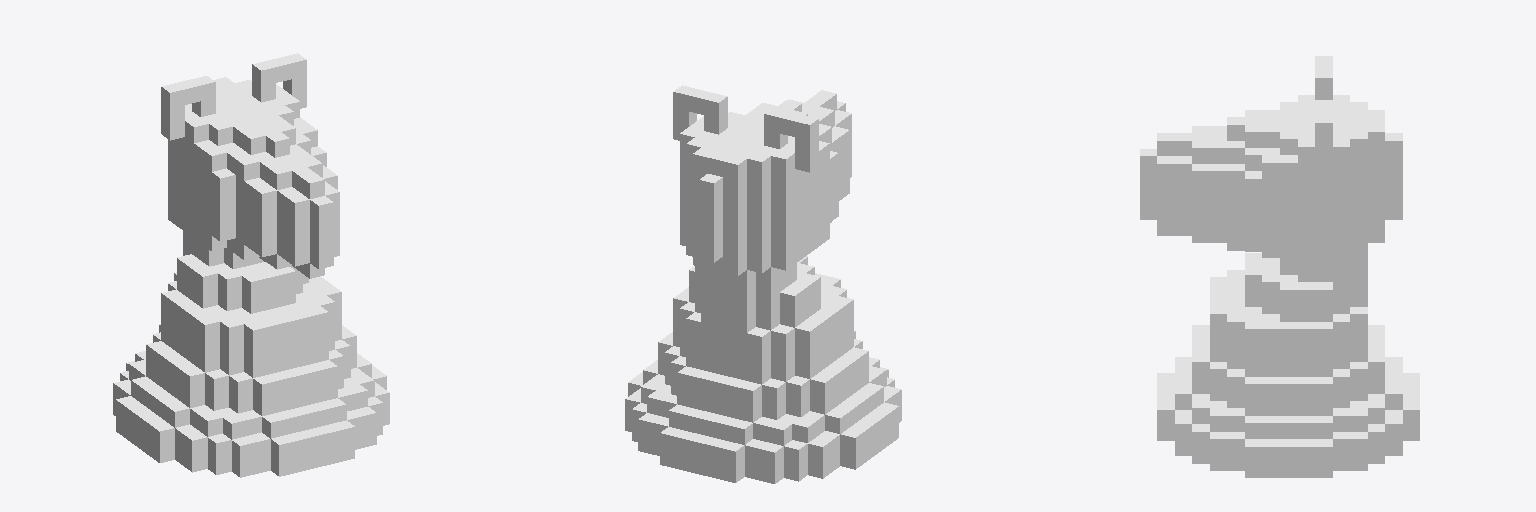
Rendered from KnightW.obj.
3 renders of one model, left to right at view 1: azimuth 30°, elevation 25°; view 2: azimuth 150°, elevation 25°; view 3: azimuth 270°, elevation 25°, orthographic.
Parts seen in each view (by area): view 1: object 1; view 2: object 1; view 3: object 1.
Part boxes in pixels (bbox=[...]): object 1: bbox=[113, 53, 389, 477]; object 1: bbox=[625, 85, 901, 483]; object 1: bbox=[1140, 56, 1419, 477].
Size of the model in its own units: 1.5 by 2.1 by 1.6.